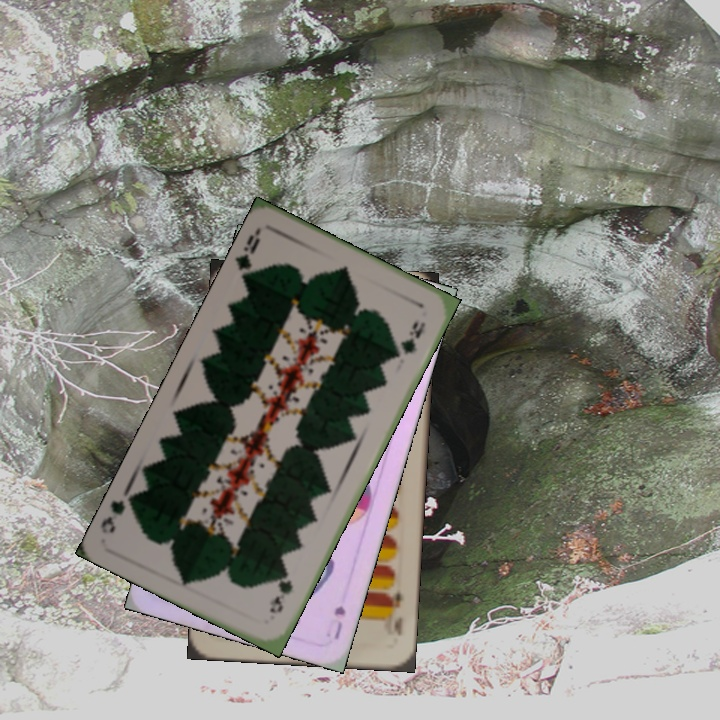E10: (384, 588, 406, 638)
G9: (232, 225, 264, 286), (266, 568, 295, 617)
SU: (330, 601, 348, 642)
